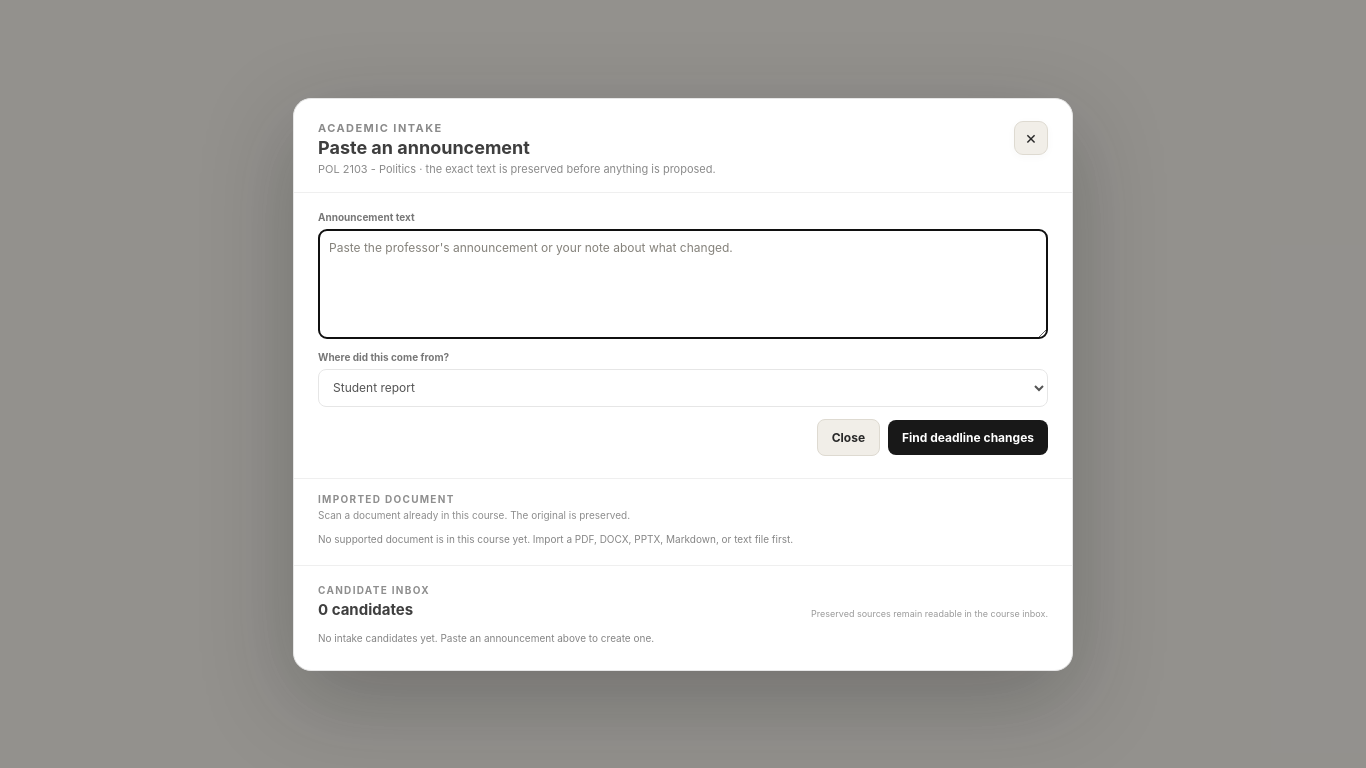
Test: IntakeDialog › preserves a paste, shows the resolved candidate, and opens the Phase 1 review
The image size is (1366, 768).
Replace the text in the text box labelled "Announcement text" with "My professor moved the Second Essay deadline to November 20." at (683, 284), box [318,228,1048,338]
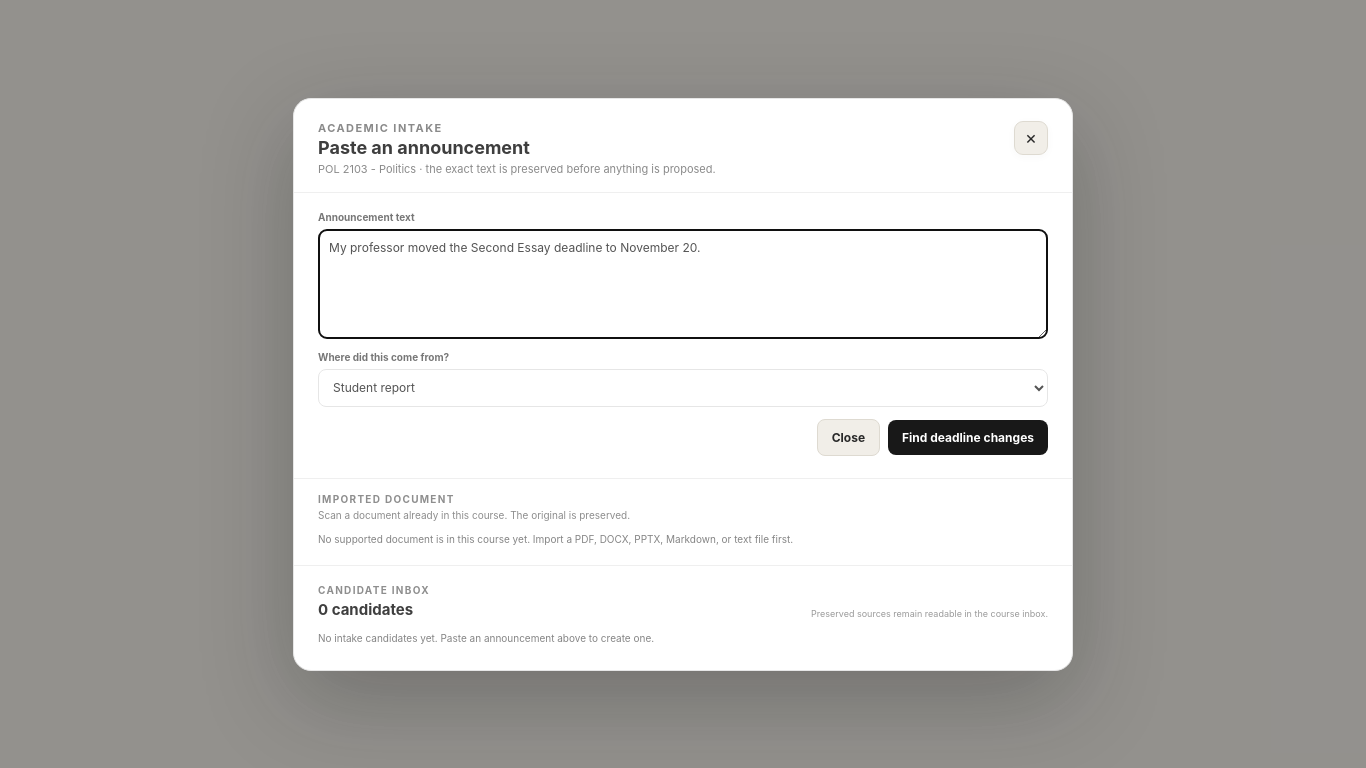
Click the button "Find deadline changes" at (968, 437), box [888,420,1048,454]
(page scrolled)
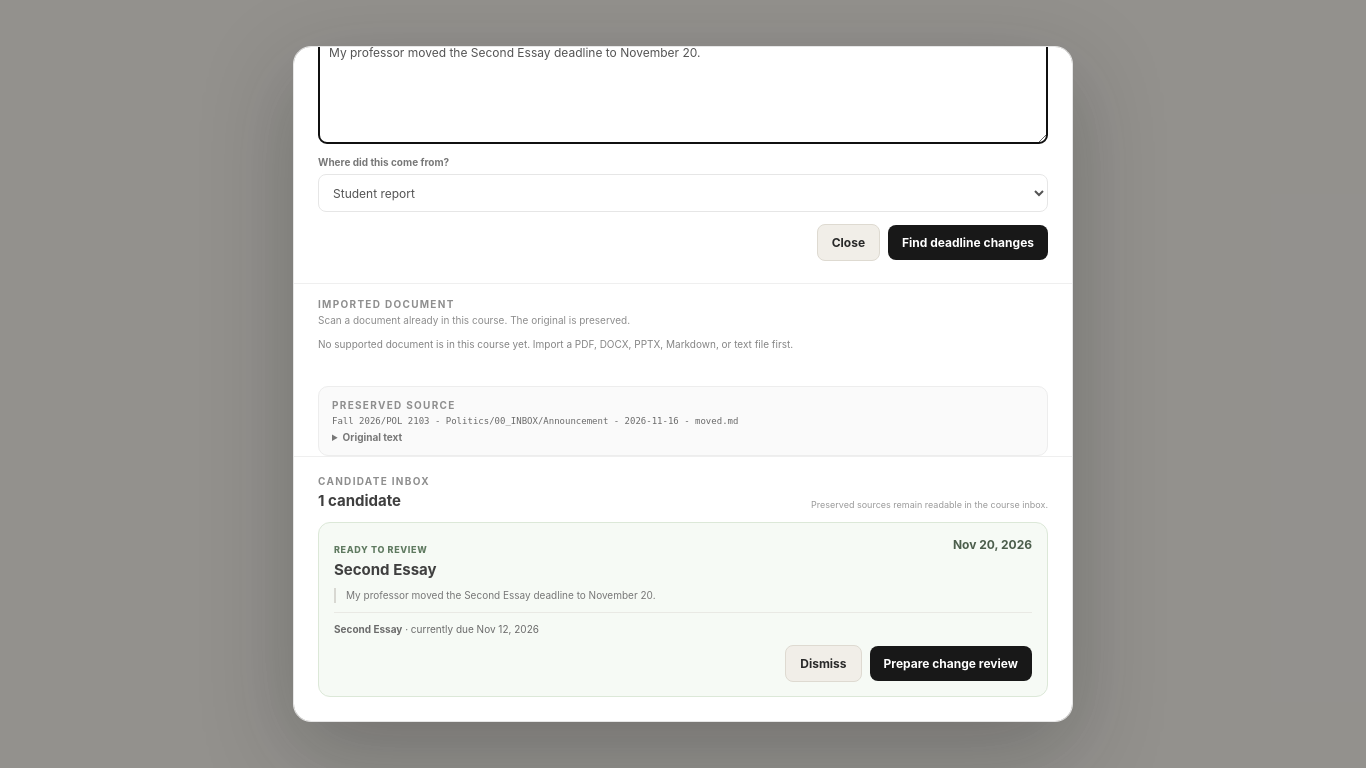
expect the heading "Second Essay" is shown: met, box [334,560,436,579]
expect the text "Ready to review" is shown: met, box [334,544,427,555]
expect the text "Second Essay · currently due Nov 12, 2026" is shown: met, box [334,623,539,635]
Click the button "Prepare change review" at (951, 664), box [870,646,1032,681]
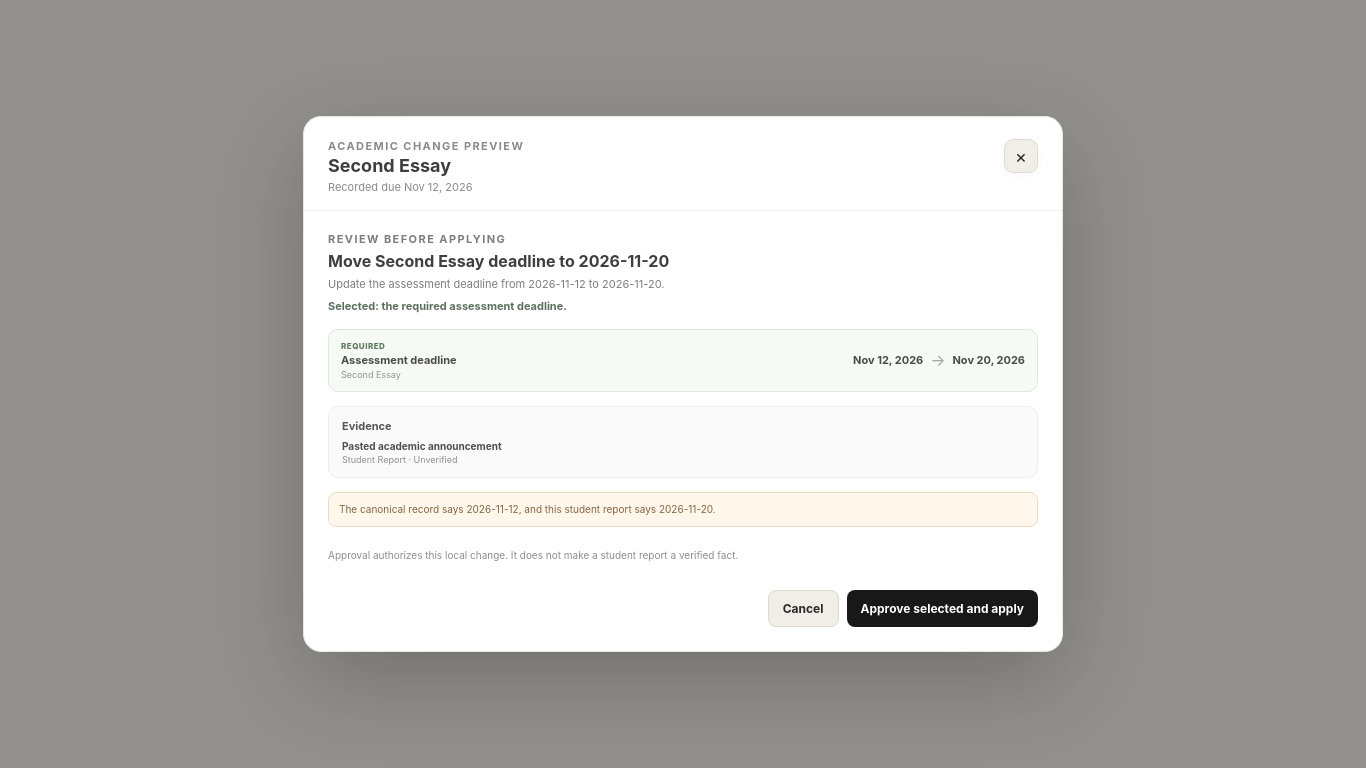
expect the text "Review before applying" is shown: met, box [328,232,506,246]
expect the button "Approve selected and apply" is shown: met, box [846,590,1038,627]
